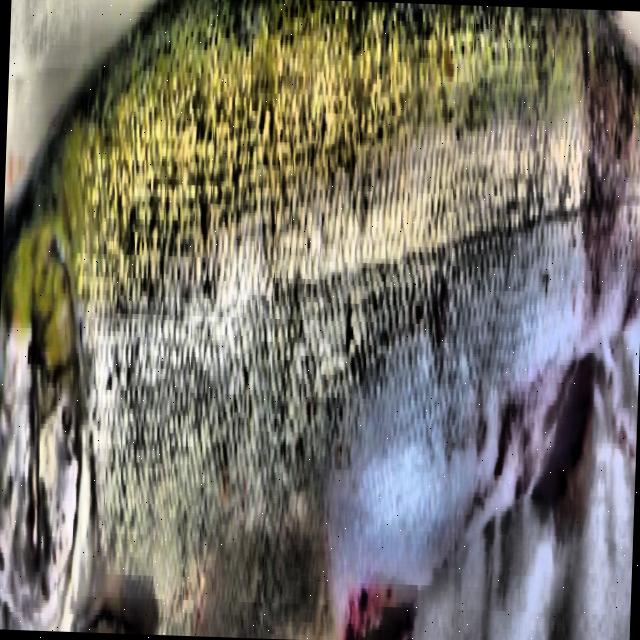mild_red: (45, 0, 640, 636)
